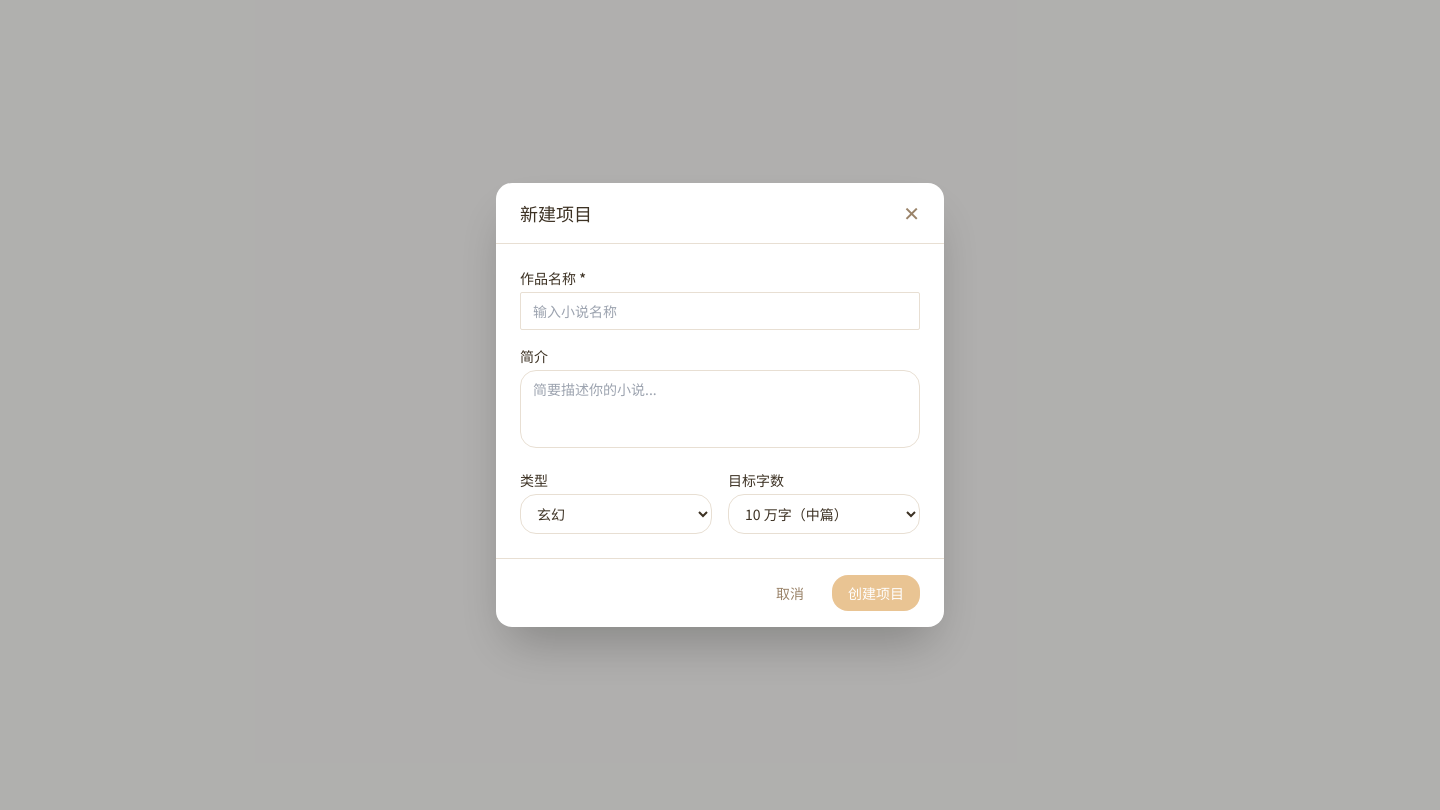
it: ProjectDialog › should show error when project creation returns no id
The width and height of the screenshot is (1440, 810).
Type "Bad" into the field with placeholder "输入小说名称" at [720, 311], box [520, 292, 920, 330]
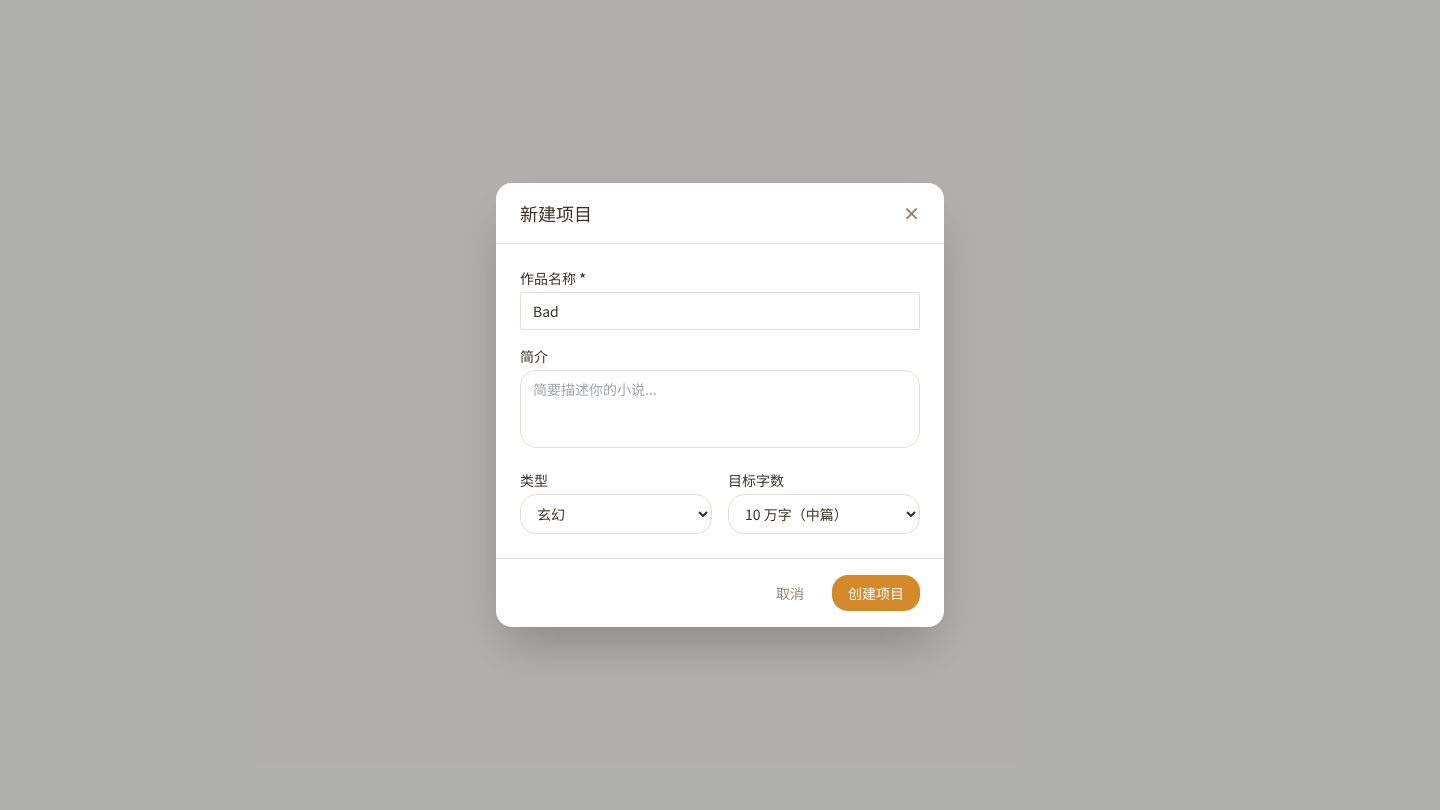
Click the button "创建项目" at [876, 593], box [832, 575, 920, 611]
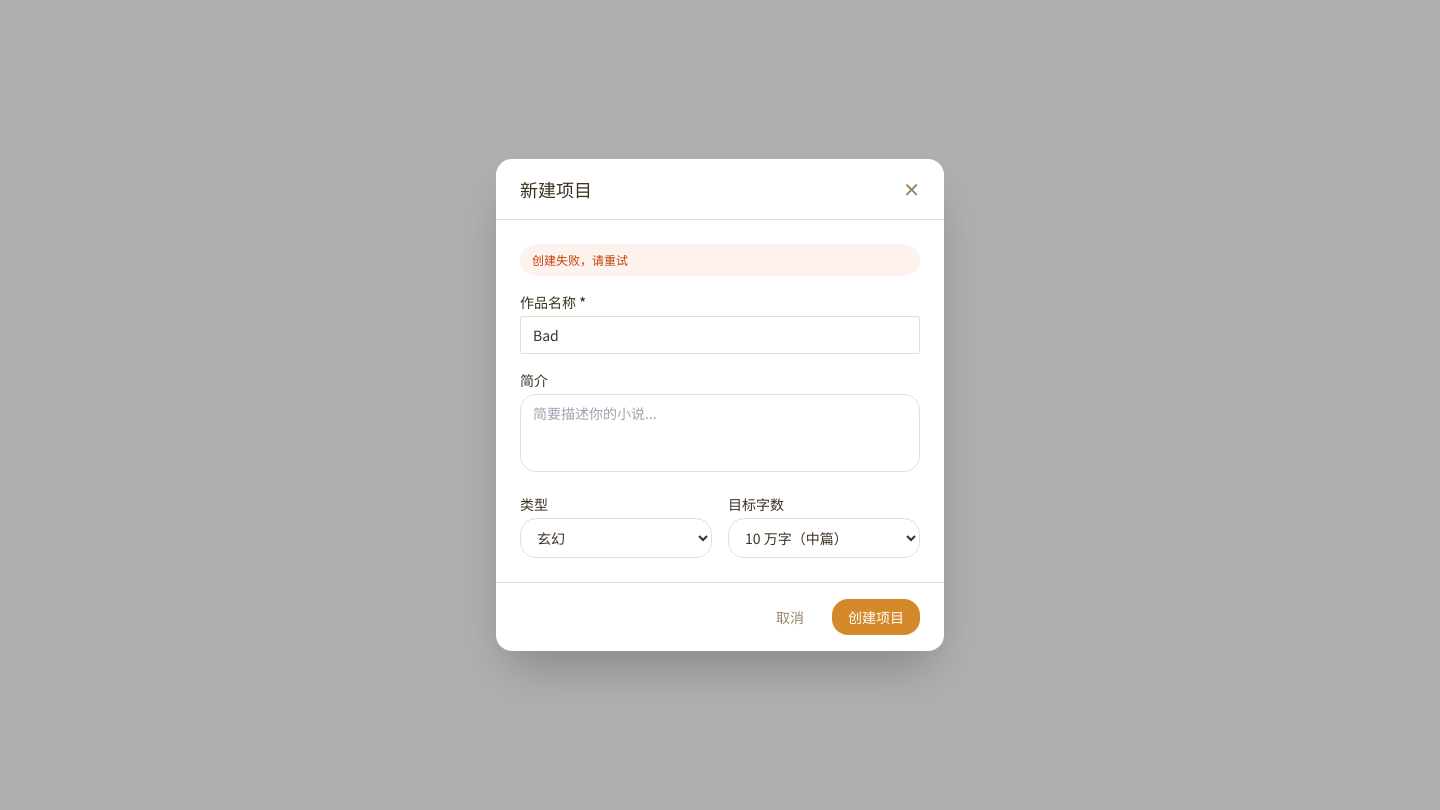
Check: the text "创建失败，请重试" is shown, box [520, 244, 920, 276]
